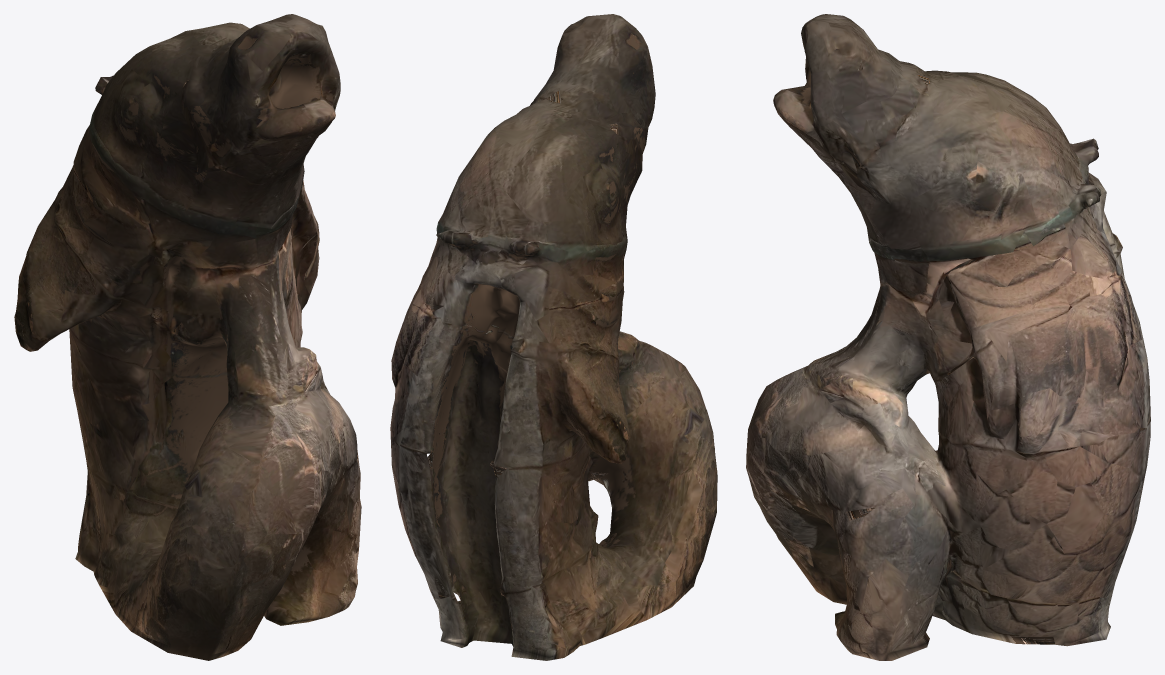
File: 11_fish.glb
3 renders of one model, left to right at view 1: azimuth 30°, elevation 25°; view 2: azimuth 150°, elevation 25°; view 3: azimuth 270°, elevation 25°, orthographic. The views are drawn at different scales.
Parts seen in each view (by area): view 1: Mesh_0.001; view 2: Mesh_0.001; view 3: Mesh_0.001.
Part boxes in pixels (<box>): Mesh_0.001: <box>14,14,361,660</box>; Mesh_0.001: <box>390,14,717,660</box>; Mesh_0.001: <box>746,14,1150,660</box>.
Bounding box in the file's own units: 0.9132 × 2 × 1.23.
Materials: 4 (4 with a texture image).
